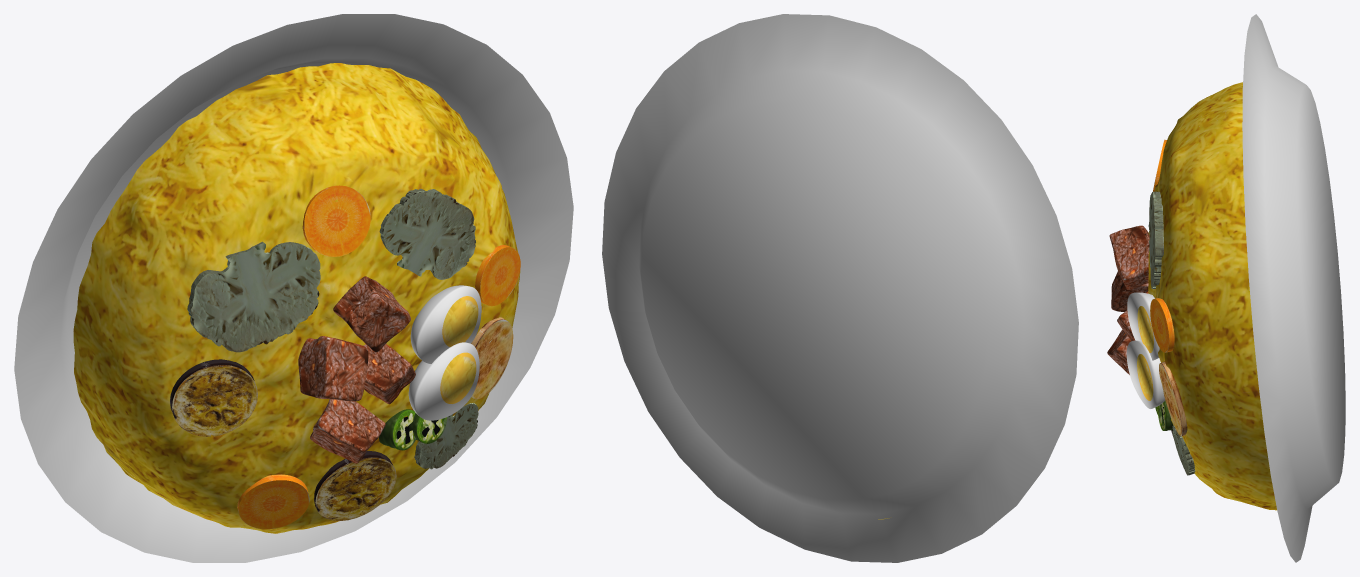
File: maqloobahbeef-v5.glb
3 views of the same model, side by side, from view 1: azimuth 30°, elevation 25°; view 2: azimuth 150°, elevation 25°; view 3: azimuth 270°, elevation 25° (orthographic). The views are drawn at different scales.
Parts seen in each view (by area): view 1: Sphere.005, Circle.001, Vert.002, Vert.004, Cylinder.012, Cylinder.014, Sphere.003, Cube.004, Sphere.004, Cylinder.007, Cube.002, Cube.001 (+7 smaller); view 2: Circle.001; view 3: Circle.001, Sphere.005, Cube.002, Sphere.003, Sphere.004, Vert.004, Cylinder.011, Cylinder.016, Cube.004, Cube.001, Vert.005, Cylinder.015.
Boxes of the visible parts, x1,y1,x2,y2 form: Sphere.005: (73,63,520,533); Circle.001: (14,14,573,562); Vert.002: (187,241,320,352); Vert.004: (379,188,475,279); Cylinder.012: (170,359,257,436); Cylinder.014: (314,451,396,520); Sphere.003: (408,342,479,420); Cube.004: (298,336,368,401); Sphere.004: (410,285,481,363); Cylinder.007: (302,185,370,256); Cube.002: (333,276,410,352); Cube.001: (310,399,385,463); Circle.001: (602,14,1078,562); Circle.001: (1242,14,1345,562); Sphere.005: (1148,82,1276,510); Cube.002: (1109,225,1149,289); Sphere.003: (1126,340,1165,408); Sphere.004: (1127,292,1159,360); Vert.004: (1149,191,1163,288); Cylinder.011: (1159,361,1187,436); Cylinder.016: (1150,298,1174,352); Cube.004: (1111,271,1148,311); Cube.001: (1107,329,1130,374); Vert.005: (1172,425,1195,475); Cylinder.015: (1157,401,1172,430).
Size of the model in its own units: 7.14 by 7.11 by 3.11.
18 materials, 15 textured.
